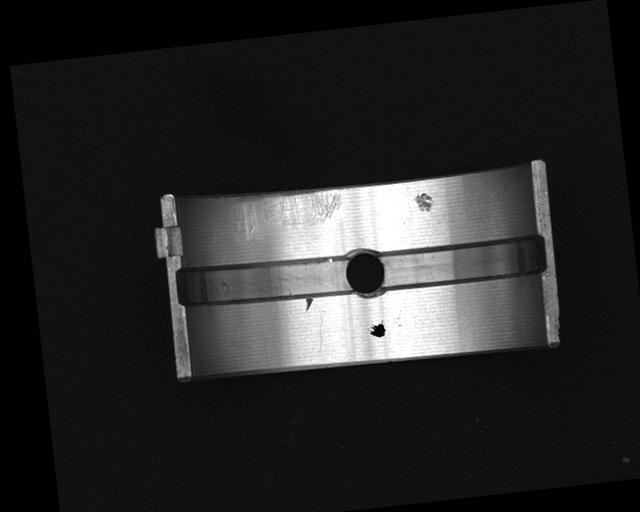blot: (368, 320, 386, 339)
bruise: (412, 191, 436, 215), (304, 296, 316, 312)
gap: (176, 247, 354, 312), (373, 232, 551, 294)
hole: (341, 244, 387, 300)
nick: (314, 315, 326, 354)
scratch: (230, 186, 345, 237)
